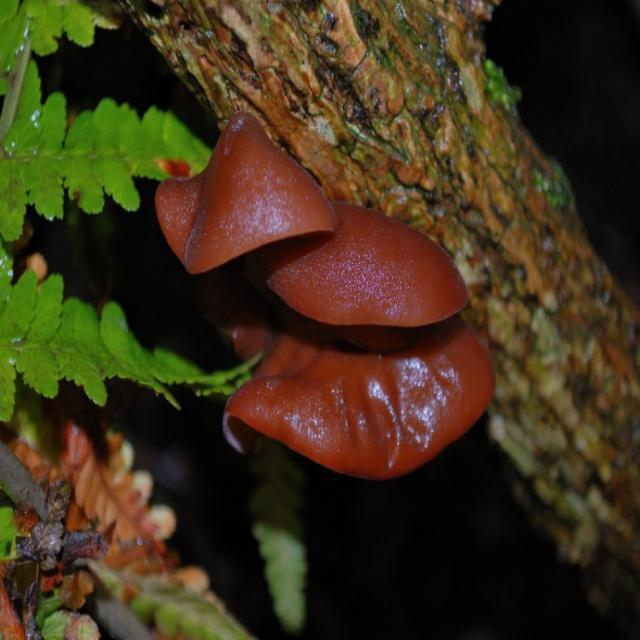Auricularia auricula: (160, 123, 495, 481)
